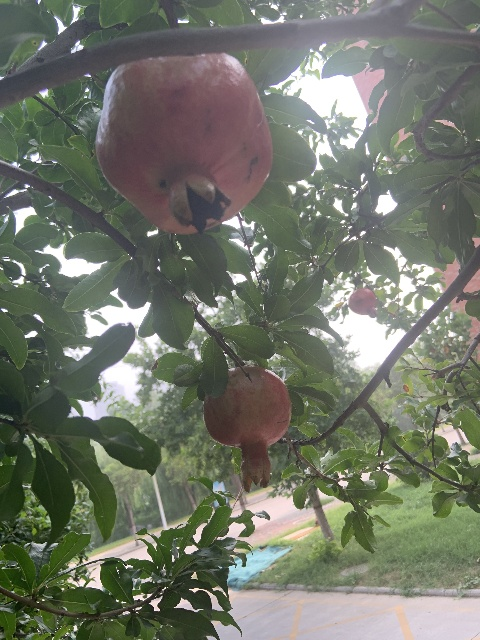ripe: (95, 53, 273, 233), (203, 365, 291, 492), (347, 288, 377, 317)
